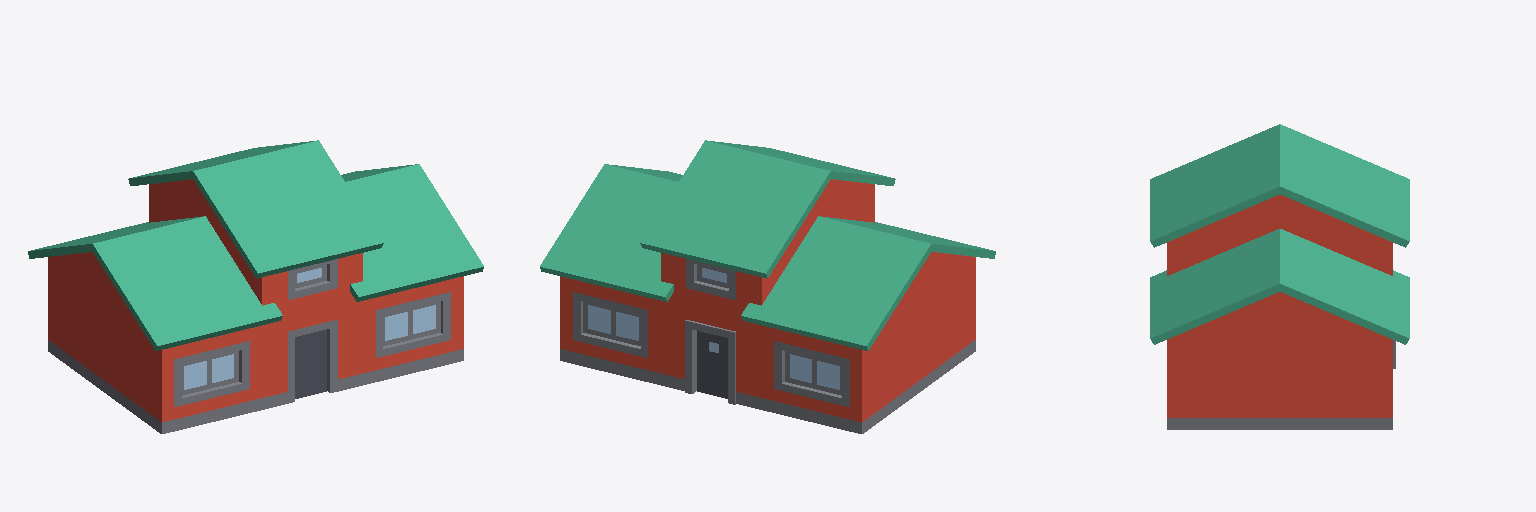
The model's file is city_house_e.obj.
The picture shows the model from 3 angles: view 1: azimuth 30°, elevation 25°; view 2: azimuth 150°, elevation 25°; view 3: azimuth 270°, elevation 25°; orthographic projection.
Parts seen in each view (by area): view 1: mergedBlocks; view 2: mergedBlocks; view 3: mergedBlocks.
Part boxes in pixels (left/top/right/bottom): mergedBlocks: left=28, top=140, right=483, bottom=433; mergedBlocks: left=540, top=140, right=995, bottom=433; mergedBlocks: left=1150, top=124, right=1409, bottom=429.
Bounding box in the file's own units: 0.8529 × 0.5001 × 0.5864.